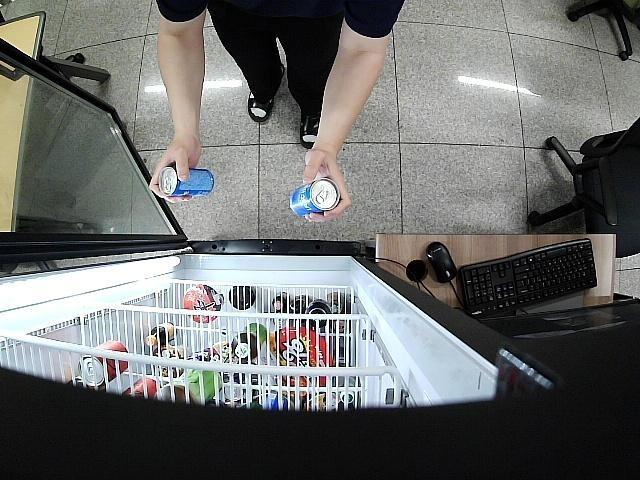15_letsbe: (157, 164, 215, 198), (290, 178, 340, 216)
